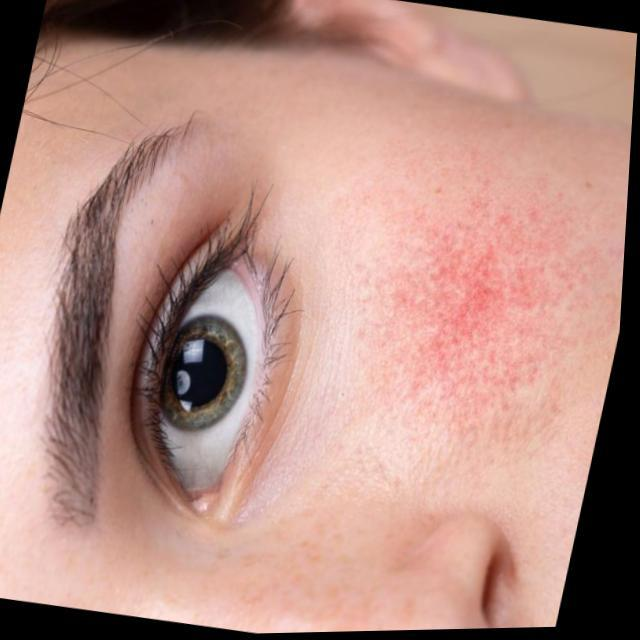redness: (361, 157, 619, 477)
